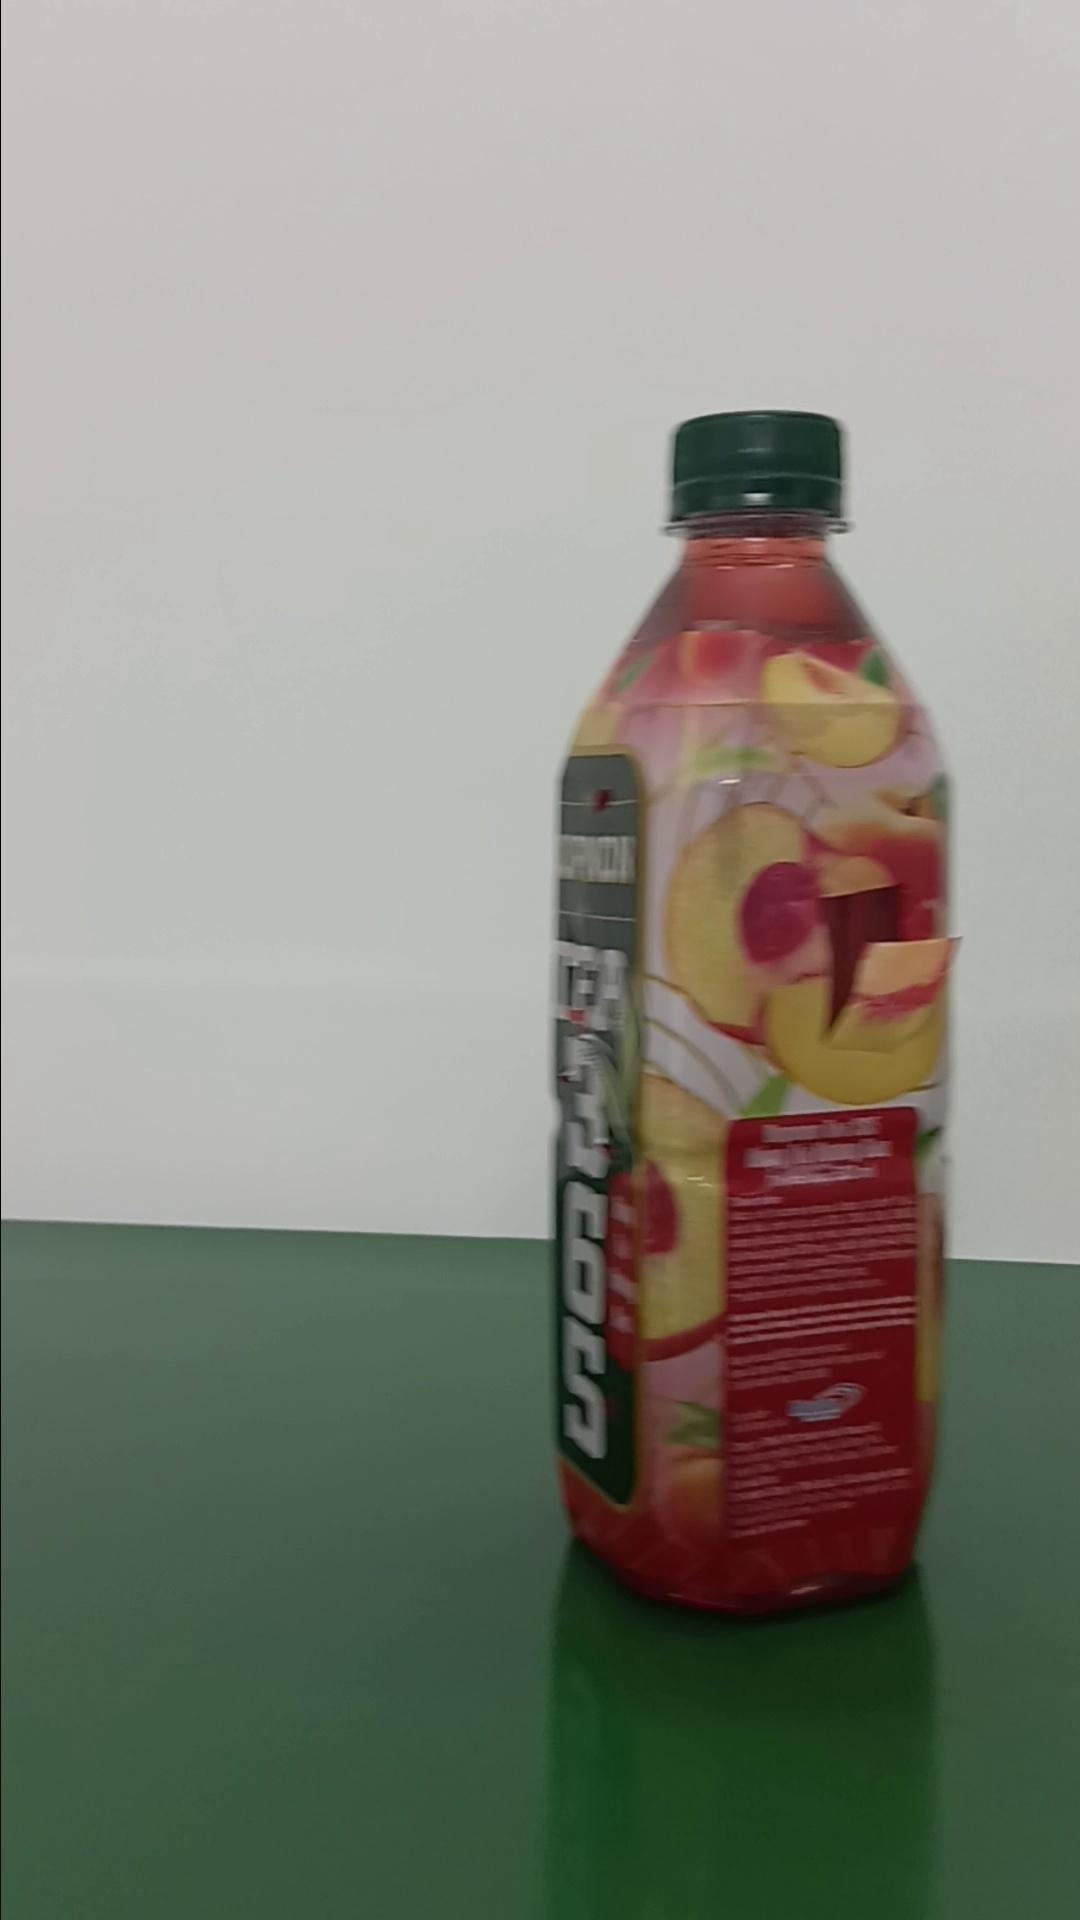loi rach va lap chai: (549, 402, 967, 1627)
